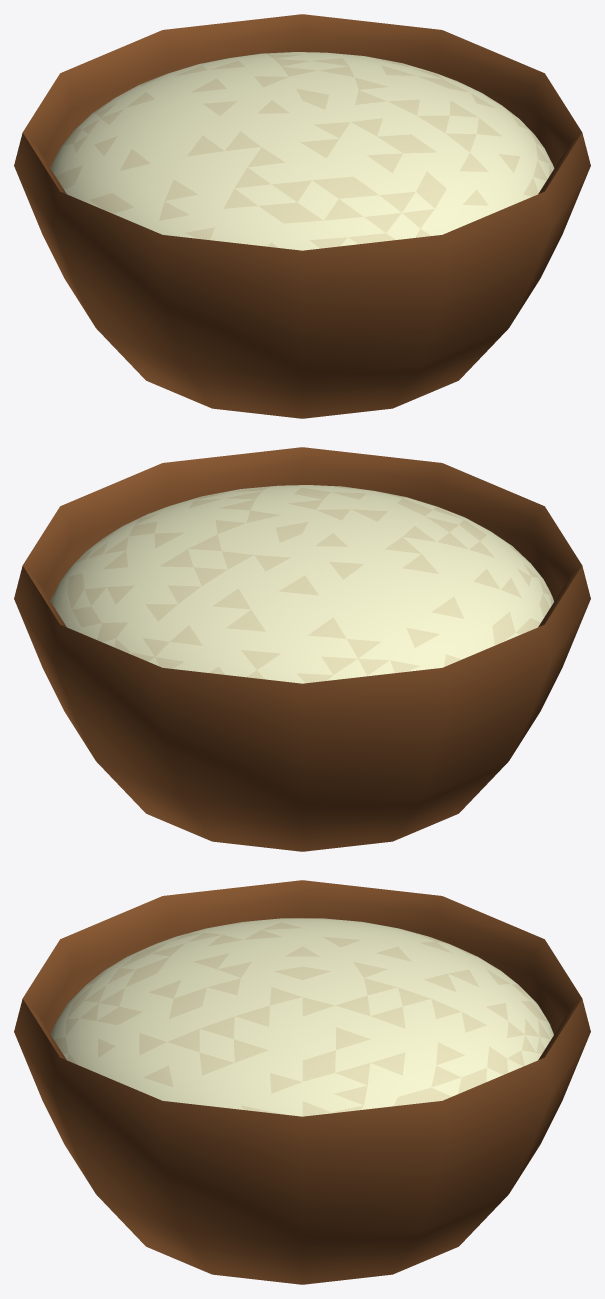
Rendered from ricebowl.fbx.
The picture shows the model from 3 angles, top to bottom: view 1: azimuth 30°, elevation 25°; view 2: azimuth 150°, elevation 25°; view 3: azimuth 270°, elevation 25°; orthographic projection.
Visible parts, largest first — view 1: Rice Bowl; view 2: Rice Bowl; view 3: Rice Bowl.
Boxes of the visible parts, x1,y1,x2,y2 form: Rice Bowl: (14, 14, 590, 418); Rice Bowl: (14, 447, 590, 851); Rice Bowl: (14, 880, 590, 1284).
Size of the model in its own units: 0.6469 by 0.3075 by 0.6469.
